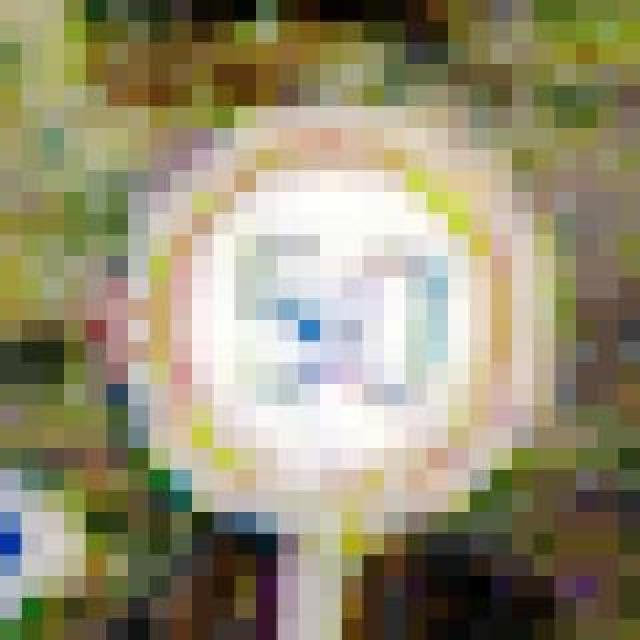50 kph: (84, 84, 512, 512)
